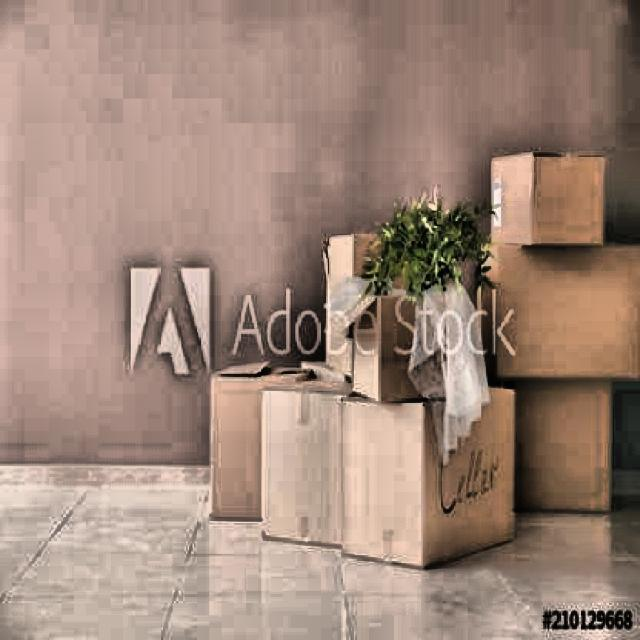Cardbox: (333, 376, 537, 564), (299, 198, 436, 411), (466, 226, 640, 380), (203, 353, 343, 539), (489, 362, 628, 536), (274, 374, 372, 553), (479, 136, 614, 249)
